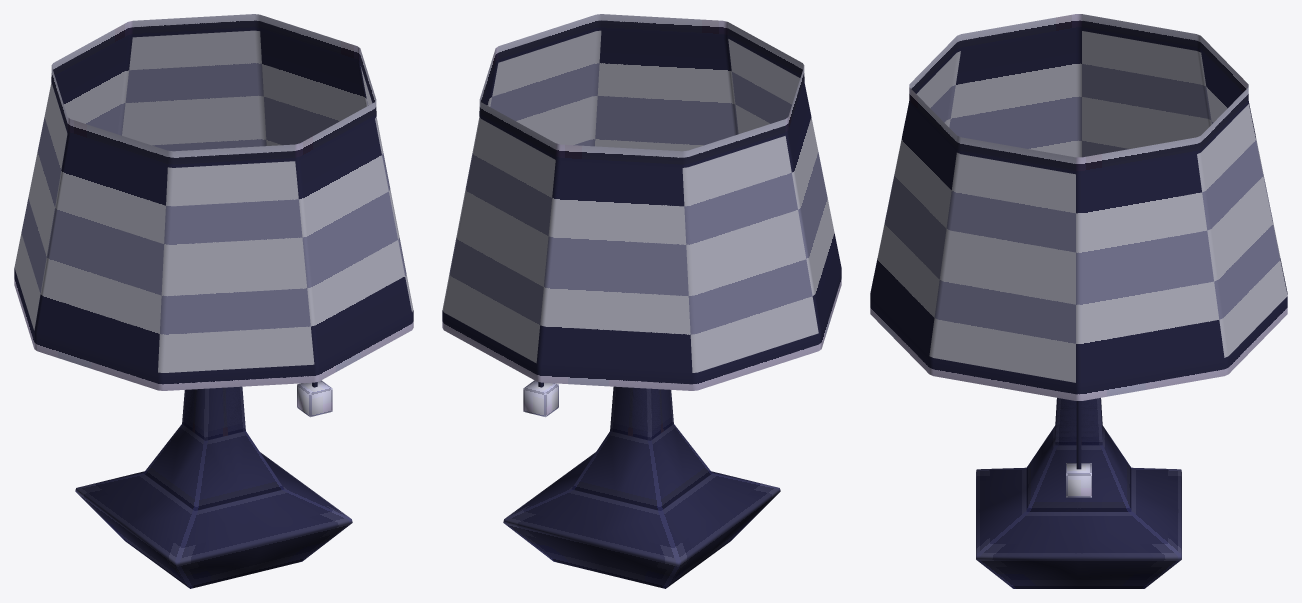
The model's file is rmk_mnc_lamp.dae.
The picture shows the model from 3 angles, left to right: view 1: azimuth 30°, elevation 25°; view 2: azimuth 150°, elevation 25°; view 3: azimuth 270°, elevation 25°; orthographic projection.
Visible parts, largest first — view 1: rmk_mnc_lamp; view 2: rmk_mnc_lamp; view 3: rmk_mnc_lamp.
Boxes of the visible parts, <box> form: rmk_mnc_lamp: <box>14,14,413,588</box>; rmk_mnc_lamp: <box>442,14,841,588</box>; rmk_mnc_lamp: <box>870,14,1287,588</box>.
Size of the model in its own units: 25.45 by 32 by 25.45.
Materials: 2 (2 with a texture image).
